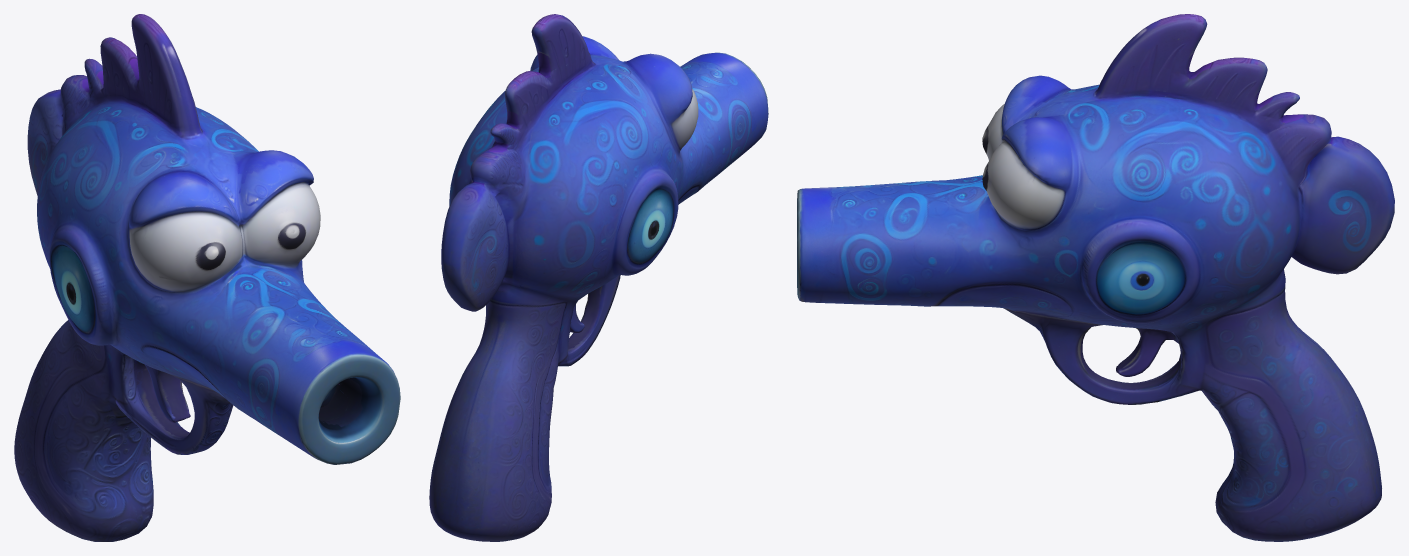
File: SM_Gun1.fbx
3 renders of one model, left to right at view 1: azimuth 30°, elevation 25°; view 2: azimuth 150°, elevation 25°; view 3: azimuth 270°, elevation 25°, orthographic. The views are drawn at different scales.
Visible parts, largest first — view 1: input; view 2: input; view 3: input.
Part boxes in pixels (x1=…): input: x1=14, y1=14, x2=400, y2=541; input: x1=429, y1=14, x2=768, y2=541; input: x1=797, y1=14, x2=1394, y2=541.
Bounding box in the file's own units: 74.85 × 191 × 200.
1 material, 1 textured.
